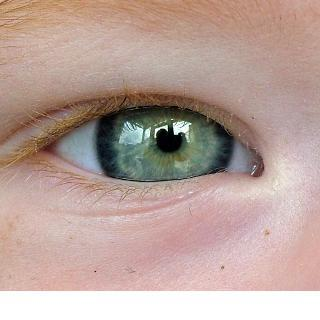pupil: (155, 126, 182, 153)
